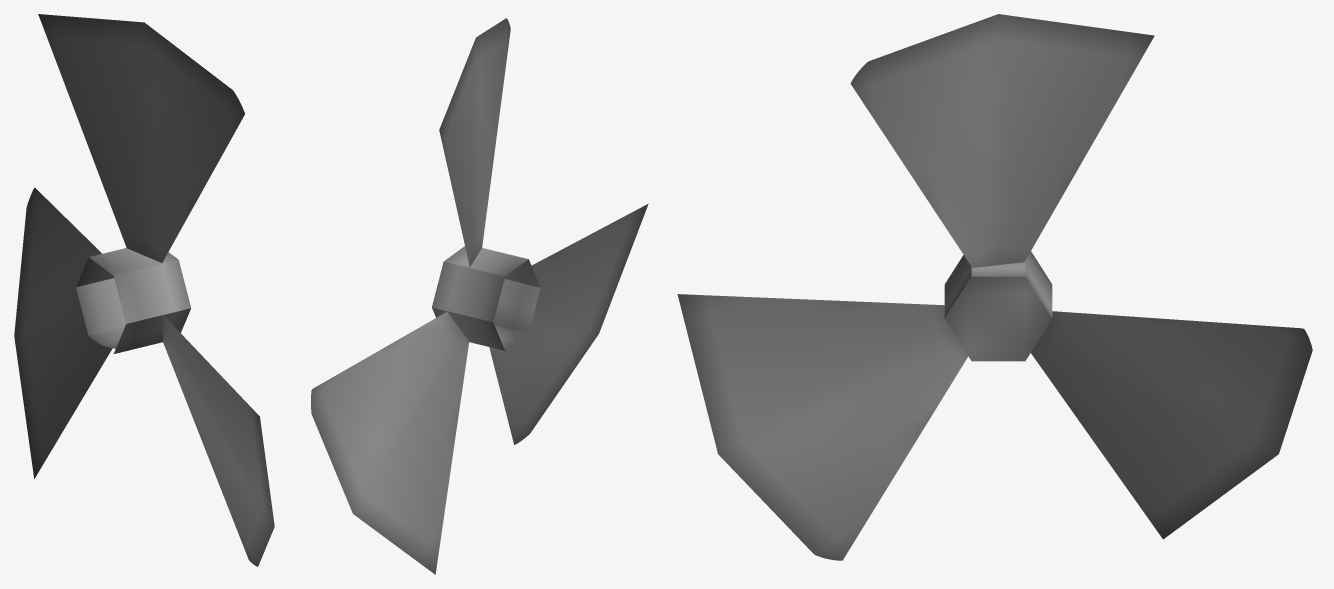
The model's file is fan.obj.
3 renders of one model, left to right at view 1: azimuth 30°, elevation 25°; view 2: azimuth 150°, elevation 25°; view 3: azimuth 270°, elevation 25°, orthographic. The views are drawn at different scales.
Bounding box in the file's own units: 0.111 × 0.6942 × 0.7436.
